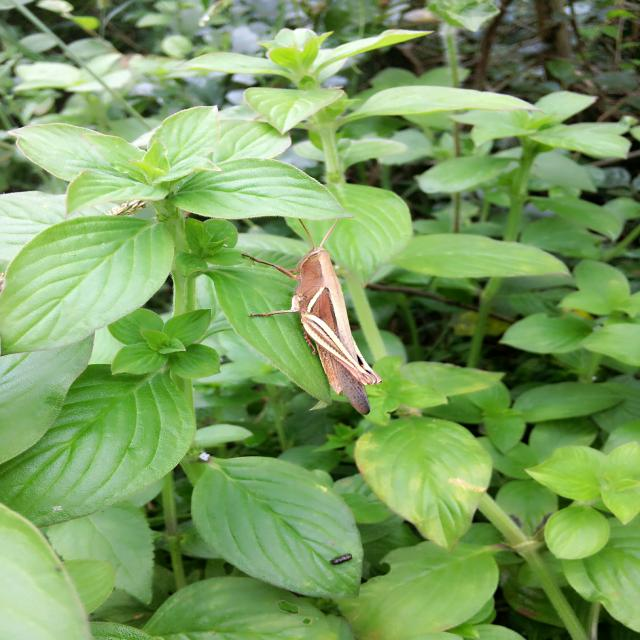ZhaMeng: (262, 219, 388, 415)
